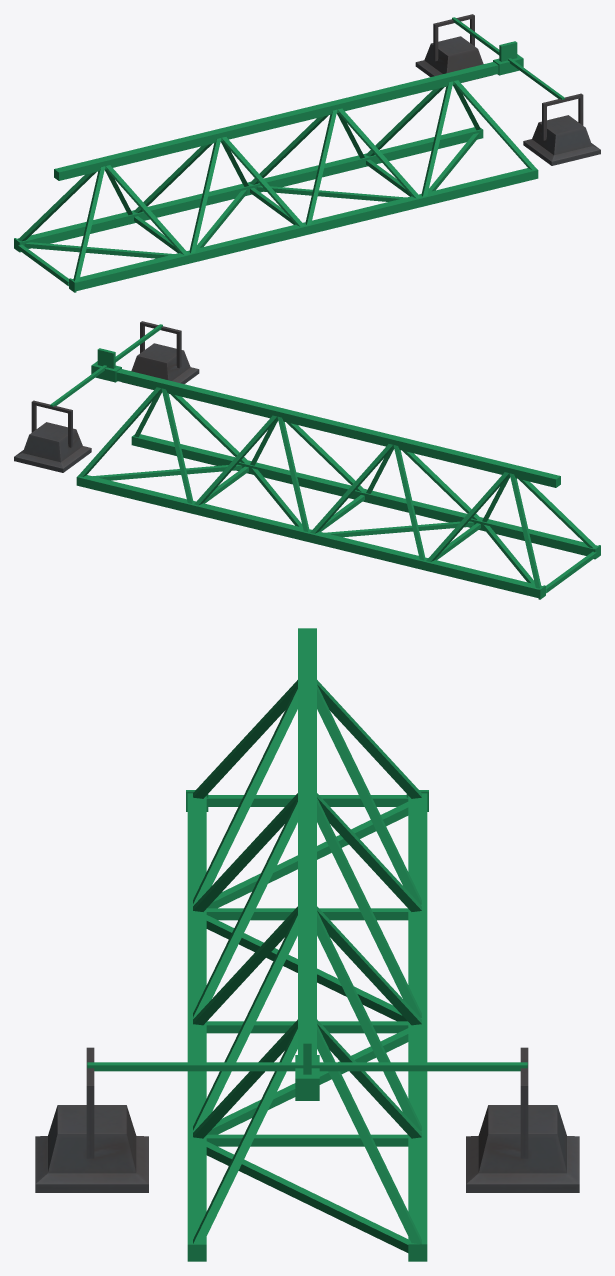
Rendered from towerCrane_jib_unit.FBX.
The picture shows the model from 3 angles, top to bottom: view 1: azimuth 30°, elevation 25°; view 2: azimuth 150°, elevation 25°; view 3: azimuth 270°, elevation 25°; orthographic projection. The views are drawn at different scales.
Parts seen in each view (by area): view 1: towerCrane_jib_unit; view 2: towerCrane_jib_unit; view 3: towerCrane_jib_unit.
Boxes of the visible parts, x1=… form: towerCrane_jib_unit: x1=14, y1=14, x2=600, y2=292; towerCrane_jib_unit: x1=14, y1=321, x2=600, y2=599; towerCrane_jib_unit: x1=35, y1=628, x2=579, y2=1261.
Bounding box in the file's own units: 718 × 159 × 345.
